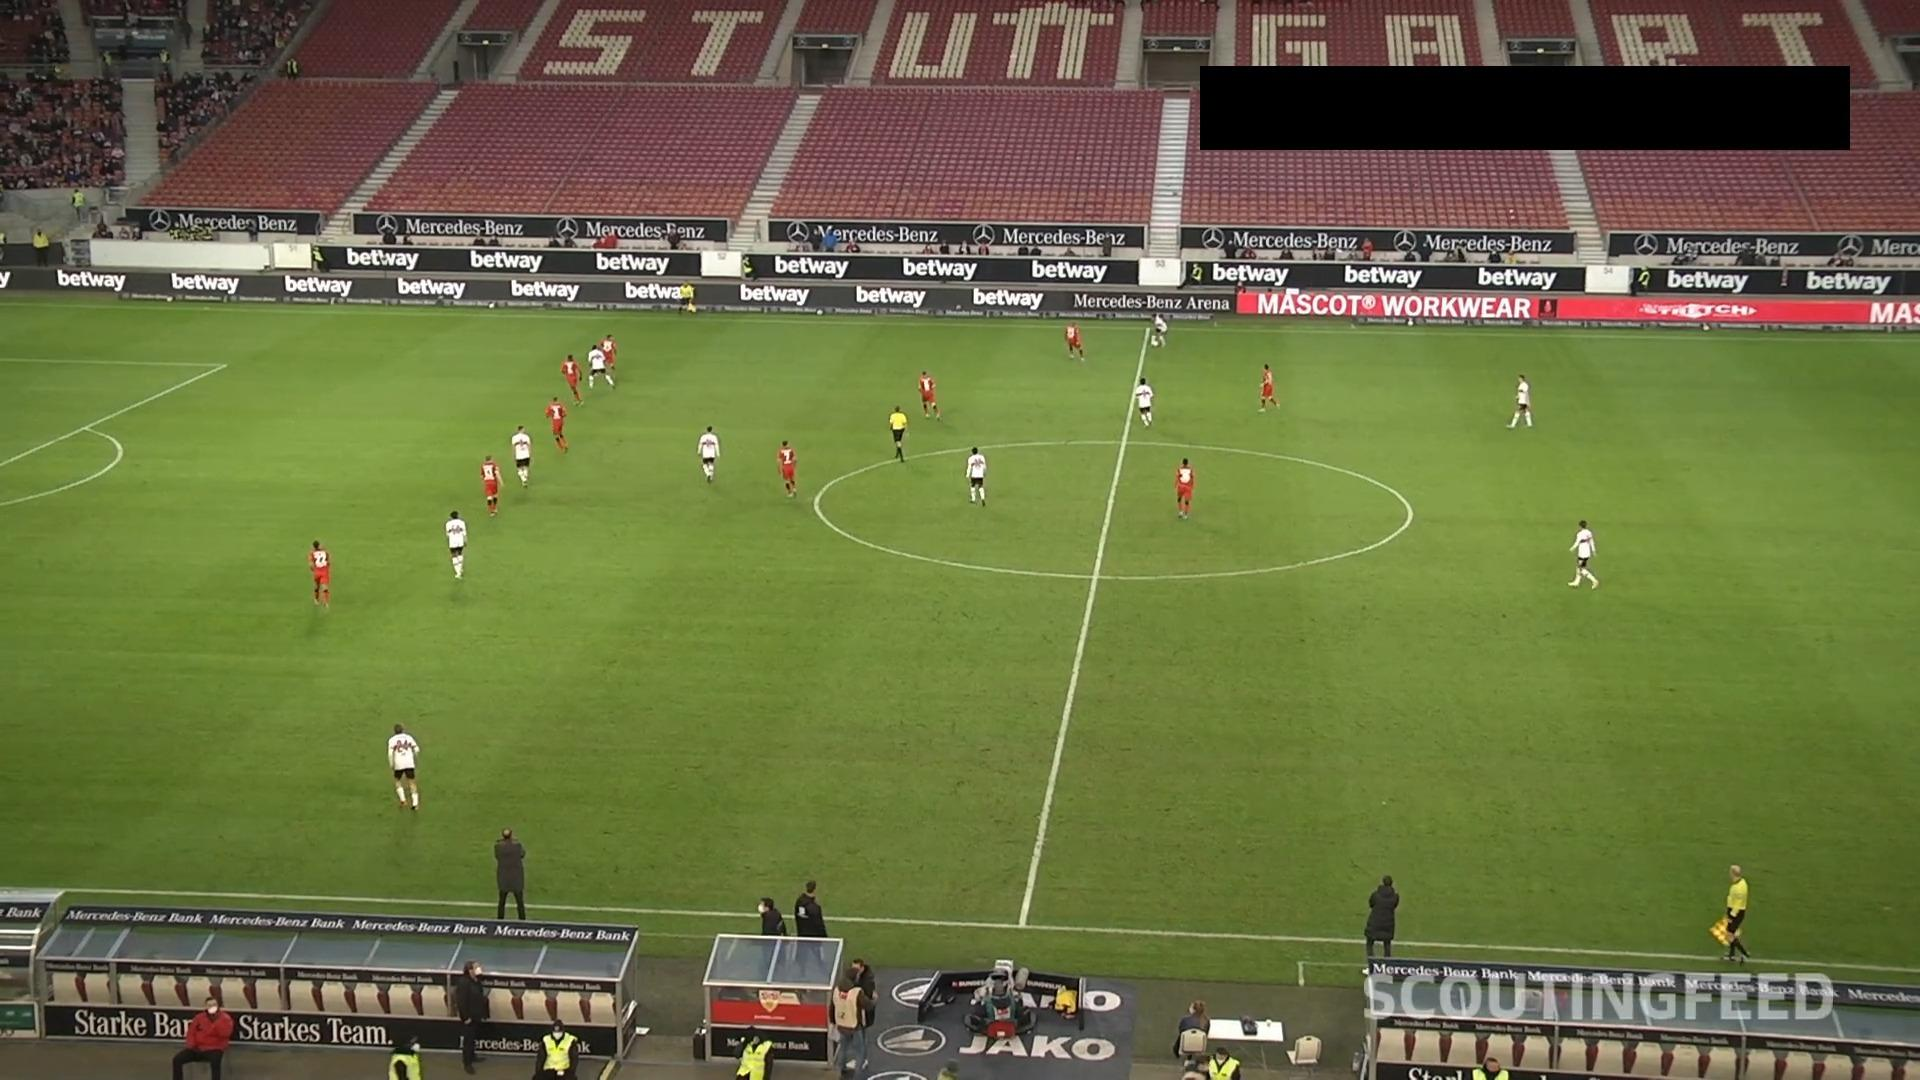ball: (1150, 338, 1160, 349)
